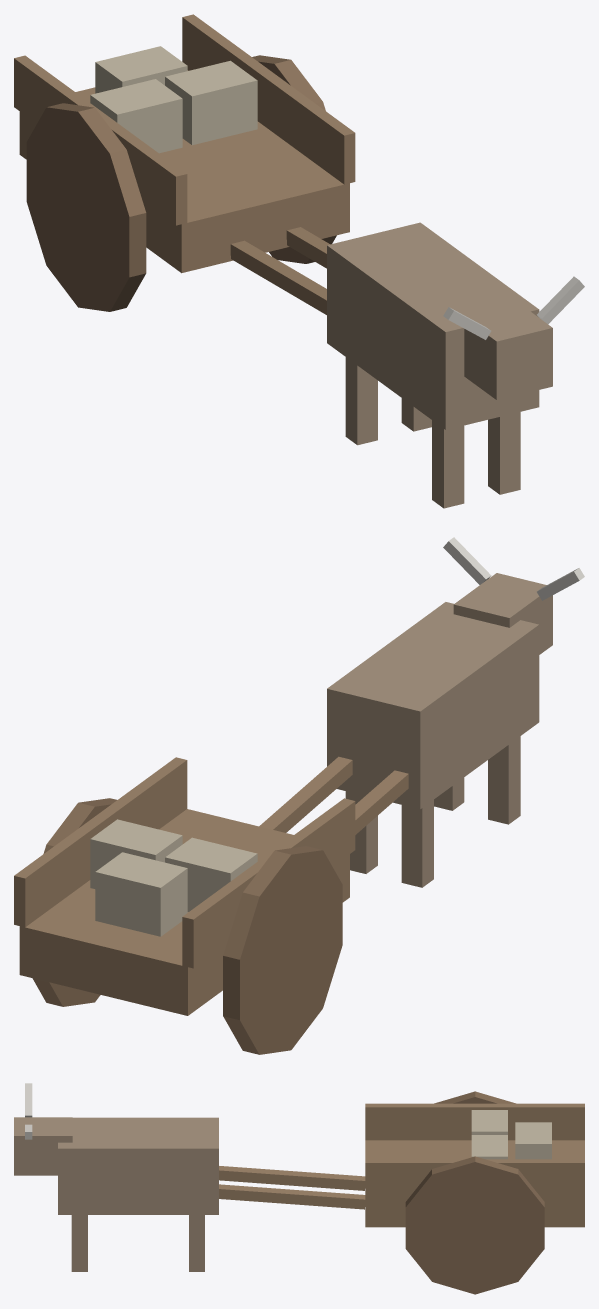
The model's file is m_karren.glb.
3 renders of one model, top to bottom at view 1: azimuth 30°, elevation 25°; view 2: azimuth 150°, elevation 25°; view 3: azimuth 270°, elevation 25°, orthographic. The views are drawn at different scales.
Visible parts, largest first — view 1: koerper; view 2: koerper; view 3: koerper.
Part boxes in pixels (bbox=[...]): koerper: bbox=[14, 14, 584, 508]; koerper: bbox=[14, 537, 584, 1054]; koerper: bbox=[14, 1083, 584, 1294].
Bounding box in the file's own units: 2.28 × 2.34 × 7.8.
